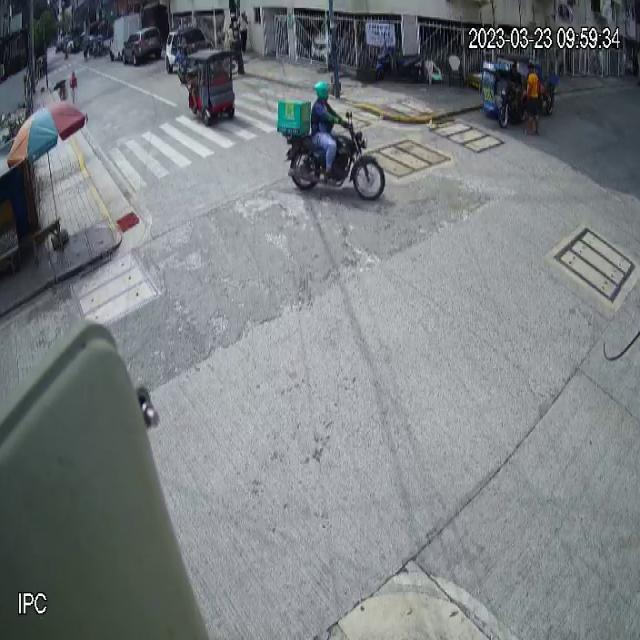Motorcycle: (274, 96, 386, 205)
Tricycle: (482, 53, 529, 128)
